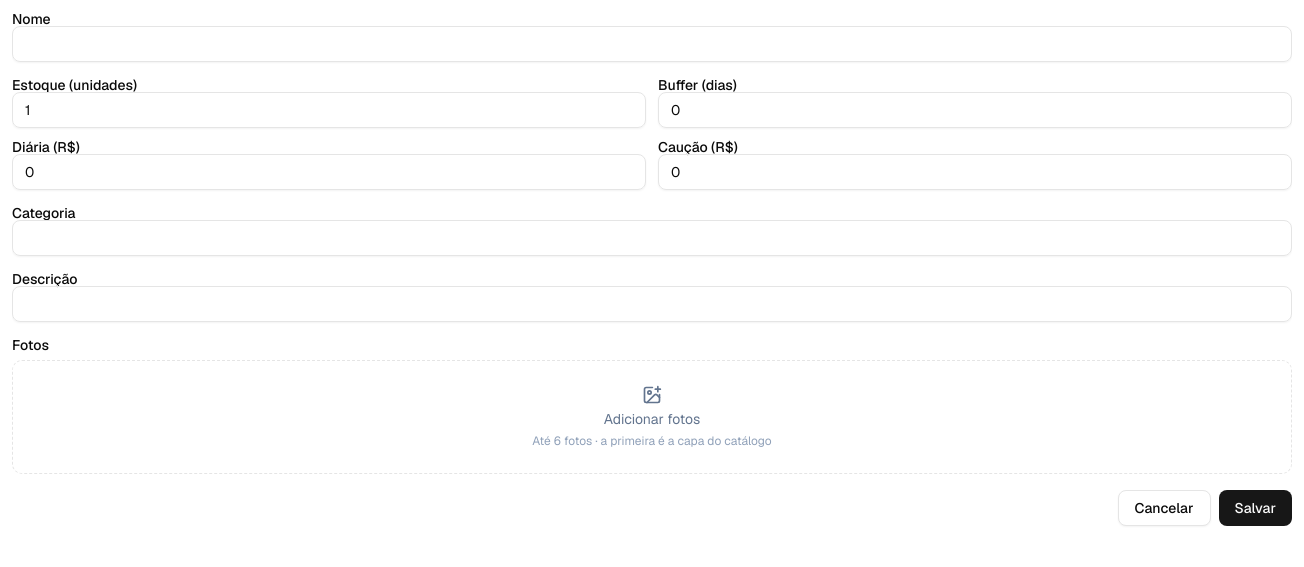
Test case: RentableItemForm › exige o nome
The image size is (1304, 567).
What coordinates should you click on to do the following:
click the button "Salvar"
I would click on:
 (1255, 508)
Its box is 1218,490 -> 1292,526.
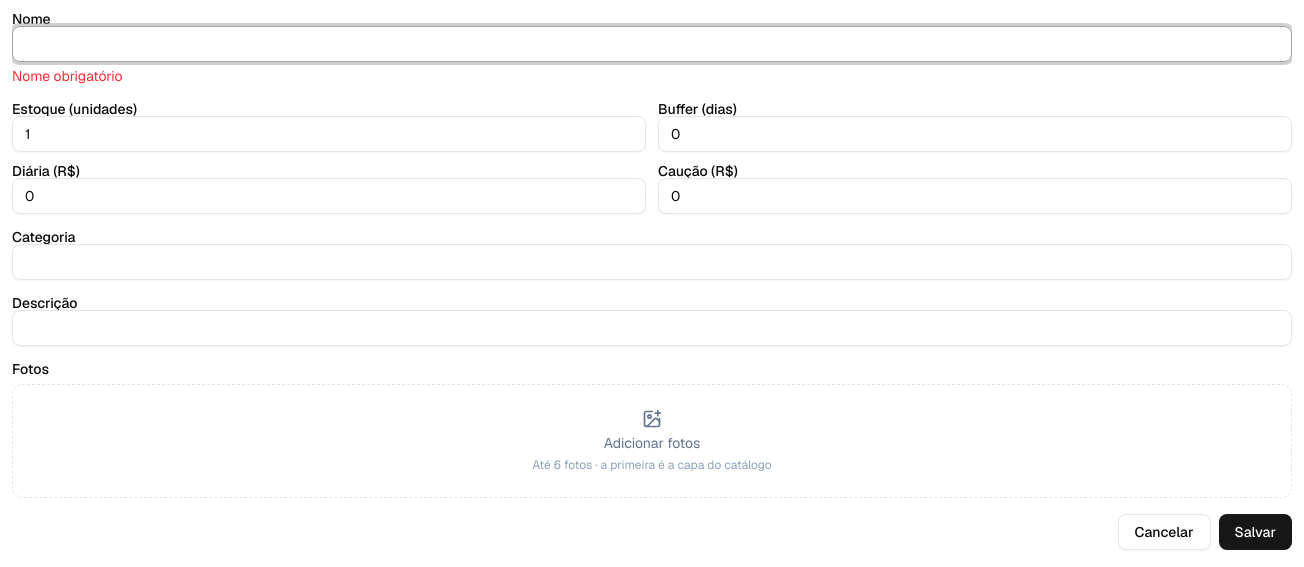
Check: the text "Nome obrigatório" is shown, box 12,67 -> 122,85
